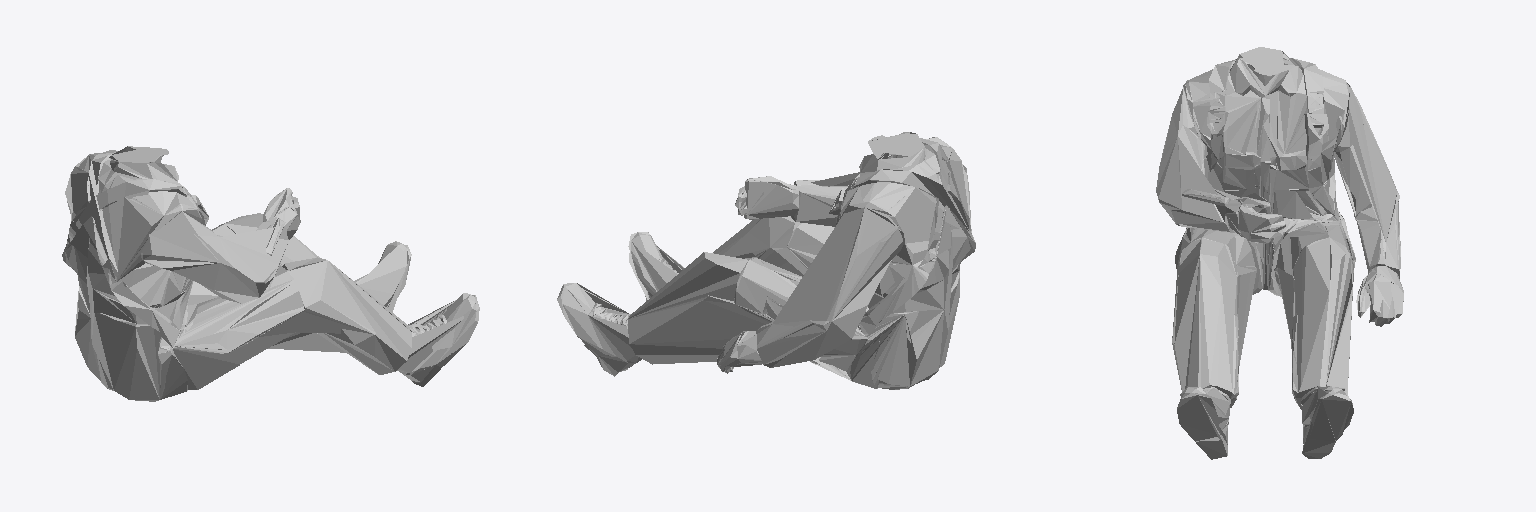
The model's file is body2.obj.
The picture shows the model from 3 angles: view 1: azimuth 30°, elevation 25°; view 2: azimuth 150°, elevation 25°; view 3: azimuth 270°, elevation 25°; orthographic projection.
Visible parts, largest first — view 1: PILOT; view 2: PILOT; view 3: PILOT.
Part boxes in pixels (bbox=[...]): PILOT: bbox=[62, 146, 479, 401]; PILOT: bbox=[557, 132, 975, 389]; PILOT: bbox=[1156, 47, 1403, 459].
Bounding box in the file's own units: 0.1452 × 0.1079 × 0.0874.